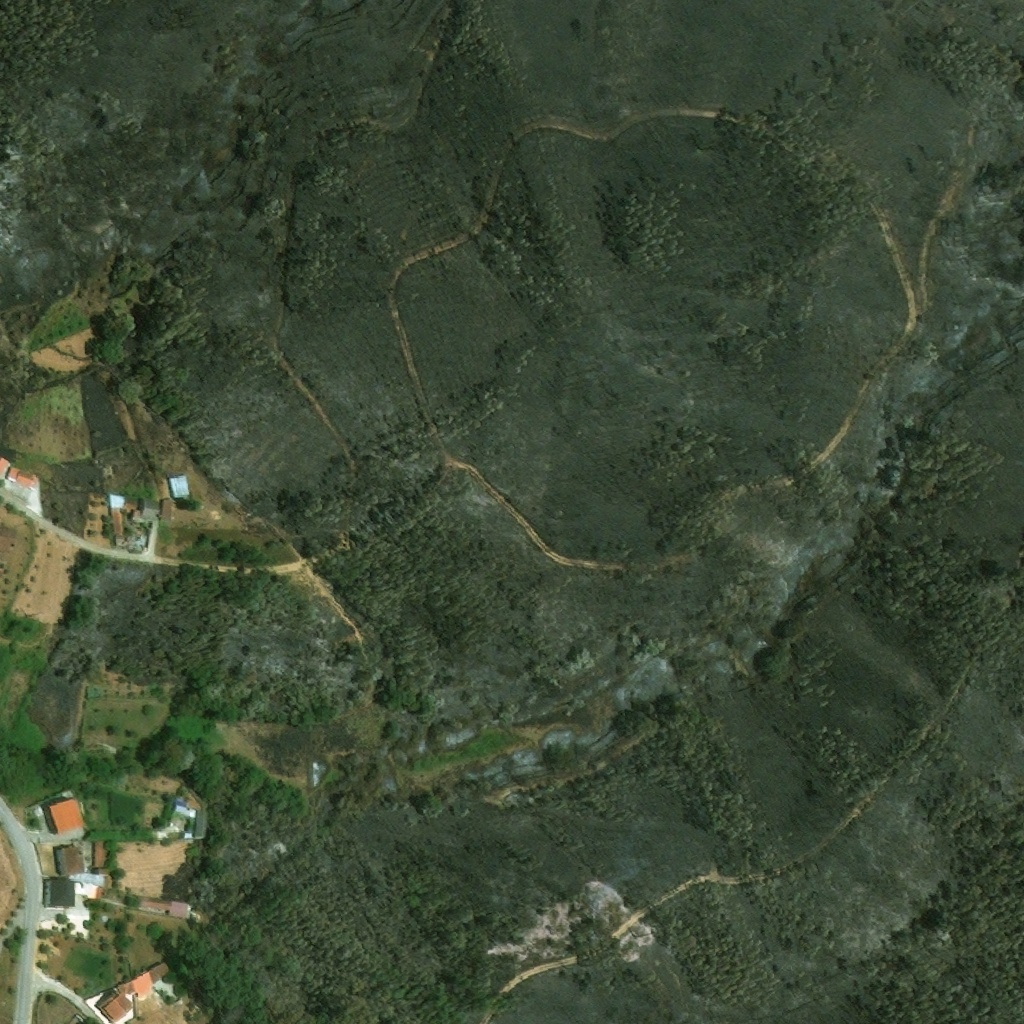0 no-damage: (42, 875, 122, 909), (108, 494, 140, 547), (94, 980, 134, 1022), (42, 795, 83, 835), (172, 803, 207, 839), (139, 898, 187, 921), (129, 497, 172, 522), (54, 844, 83, 874), (0, 518, 19, 563), (143, 962, 171, 988), (89, 841, 106, 875), (168, 475, 189, 497), (14, 471, 36, 489), (5, 466, 20, 482), (0, 457, 8, 478)
